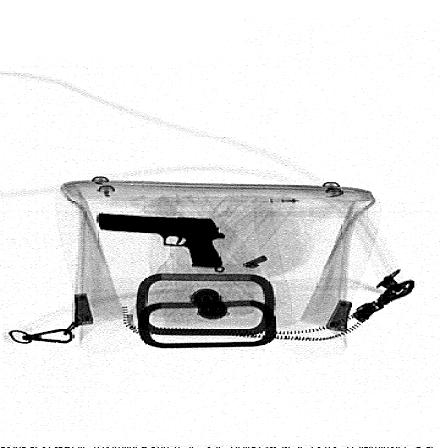Gun: (95, 213, 227, 267)
